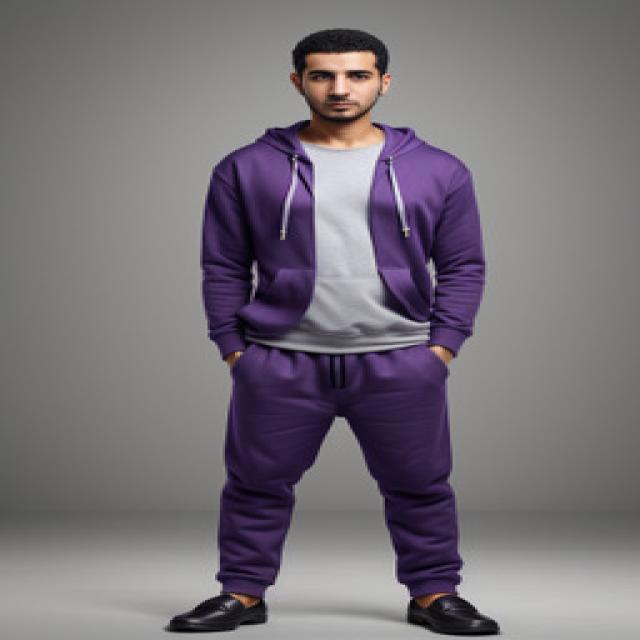Ai human 2: (166, 17, 529, 640)
